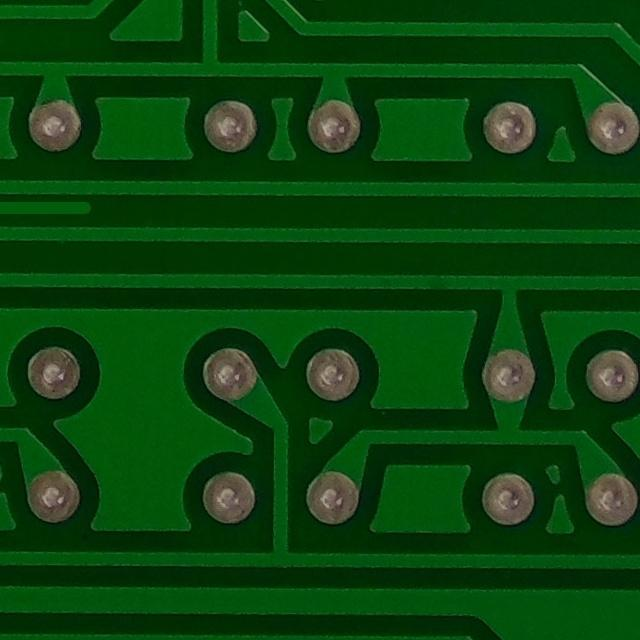spurious_copper: (0, 184, 106, 235)
